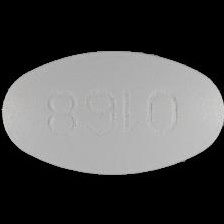55111-168: (0, 0, 224, 224)
